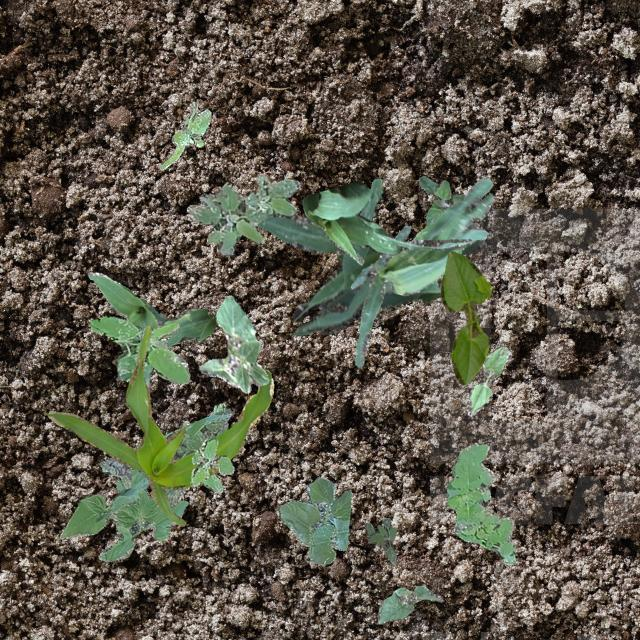crop: (44, 324, 272, 526), (255, 178, 486, 334), (350, 176, 492, 366), (86, 271, 215, 388), (302, 180, 472, 264), (58, 468, 186, 560), (198, 294, 268, 392), (440, 250, 490, 384), (278, 476, 350, 564), (466, 346, 511, 414), (376, 584, 442, 622)
weed: (98, 408, 230, 508), (186, 173, 300, 254), (446, 442, 514, 562), (89, 316, 190, 384), (182, 402, 224, 492), (158, 100, 210, 168), (418, 174, 463, 224), (190, 436, 232, 486), (364, 516, 396, 564)
